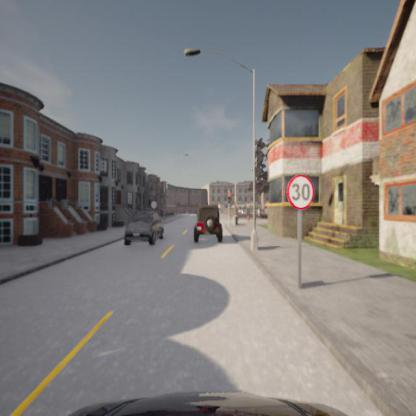traffic_light_red: (227, 192, 231, 202)
traffic_sign_30: (286, 172, 315, 210)
vehicle: (124, 214, 162, 244), (194, 204, 221, 240)
